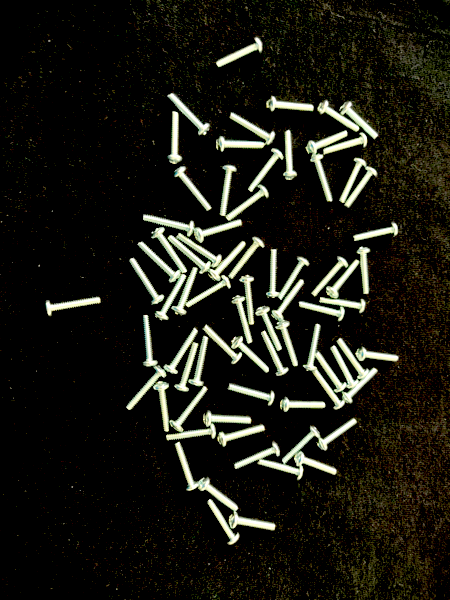longscrew: (167, 92, 212, 138), (172, 165, 214, 214), (169, 385, 211, 434), (126, 364, 167, 413), (136, 241, 181, 284), (151, 227, 190, 275), (228, 110, 278, 147), (129, 257, 166, 307), (163, 325, 200, 375), (202, 323, 244, 366), (168, 235, 213, 275), (175, 232, 224, 268), (248, 147, 285, 194), (206, 498, 242, 546), (208, 240, 248, 283), (224, 185, 270, 222), (214, 36, 264, 70), (154, 273, 188, 323), (339, 101, 380, 141), (231, 335, 272, 375), (281, 424, 321, 465), (311, 256, 349, 299), (196, 476, 240, 513), (229, 236, 265, 281), (277, 255, 311, 302), (185, 275, 232, 309), (343, 166, 379, 210), (310, 367, 346, 411), (232, 440, 283, 471), (340, 366, 380, 404), (171, 266, 200, 318), (172, 441, 201, 493), (271, 279, 306, 322), (316, 417, 359, 452), (317, 100, 361, 134), (325, 258, 361, 299), (336, 337, 370, 380), (173, 342, 201, 394), (259, 330, 289, 378), (41, 295, 102, 318), (339, 157, 368, 205), (193, 218, 244, 245), (315, 351, 347, 394), (256, 305, 285, 352), (309, 153, 335, 205), (225, 381, 275, 408), (330, 344, 359, 390), (217, 423, 268, 449), (141, 213, 196, 237), (165, 422, 219, 445), (275, 320, 300, 369), (304, 130, 349, 157), (294, 450, 339, 477), (231, 295, 255, 345), (138, 313, 159, 369), (188, 335, 210, 388), (257, 458, 305, 482), (323, 131, 369, 156), (297, 300, 347, 323), (227, 511, 278, 533), (163, 110, 183, 166), (351, 221, 399, 244), (302, 323, 323, 373), (200, 409, 255, 428), (318, 295, 367, 316), (218, 164, 237, 217), (153, 381, 172, 434), (214, 135, 266, 154), (239, 274, 257, 327), (266, 95, 316, 114), (278, 395, 327, 414), (281, 129, 298, 182), (354, 345, 400, 364), (355, 246, 372, 296), (265, 247, 280, 300)
